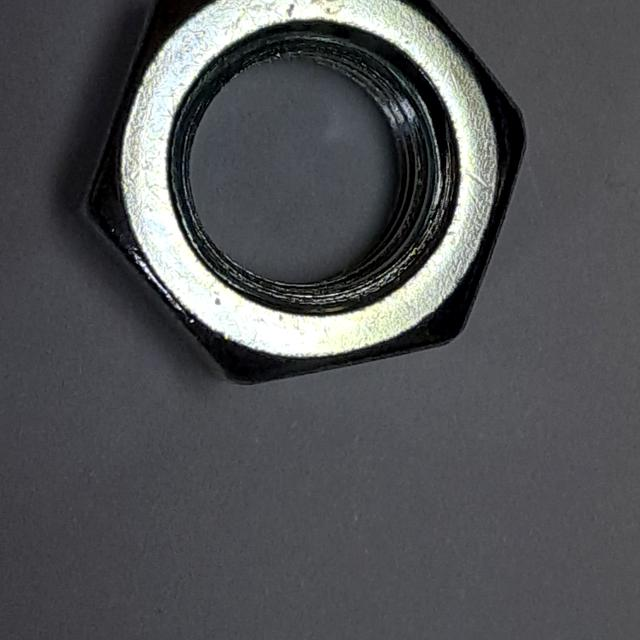Excellent: (45, 1, 549, 407)
